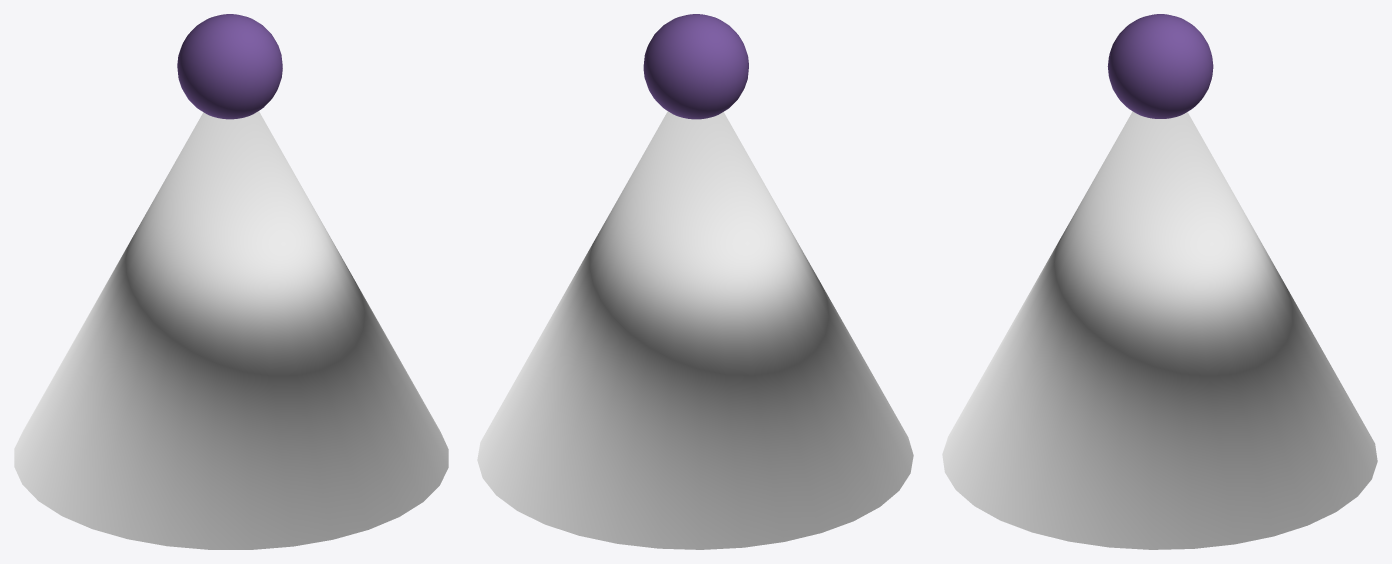
File: gorrito sin pelo.fbx
The picture shows the model from 3 angles, left to right: view 1: azimuth 30°, elevation 25°; view 2: azimuth 150°, elevation 25°; view 3: azimuth 270°, elevation 25°; orthographic projection.
Visible parts, largest first — view 1: bola.002; view 2: bola.002; view 3: bola.002.
Part boxes in pixels (x1,y1,x2,y2): bola.002: (14,14,448,549); bola.002: (477,14,913,549); bola.002: (942,14,1377,549).
Bounding box in the file's own units: 89.41 × 99.37 × 89.41.
